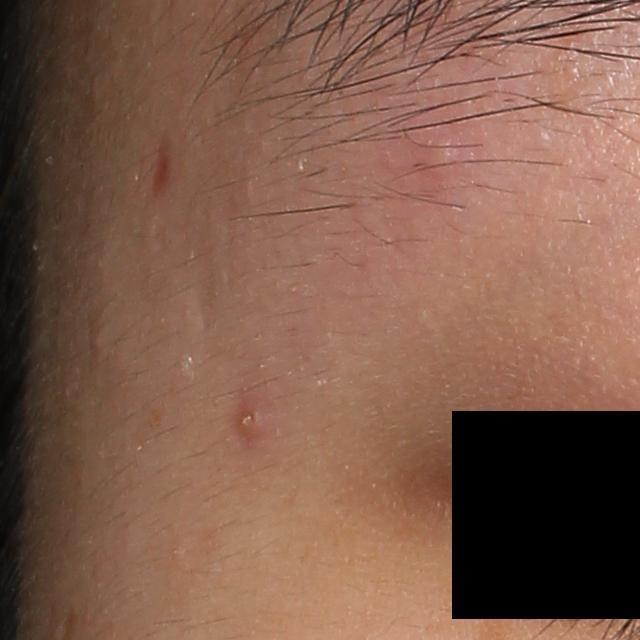atrophic_scar: (148, 133, 176, 199)
papule: (232, 389, 281, 448), (418, 129, 463, 176)
